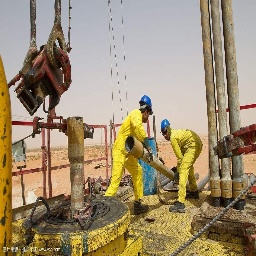helmet: (137, 94, 156, 117), (158, 116, 174, 140)
person: (104, 91, 158, 218), (155, 113, 207, 219)
vest: (114, 108, 150, 165), (171, 127, 204, 164)
